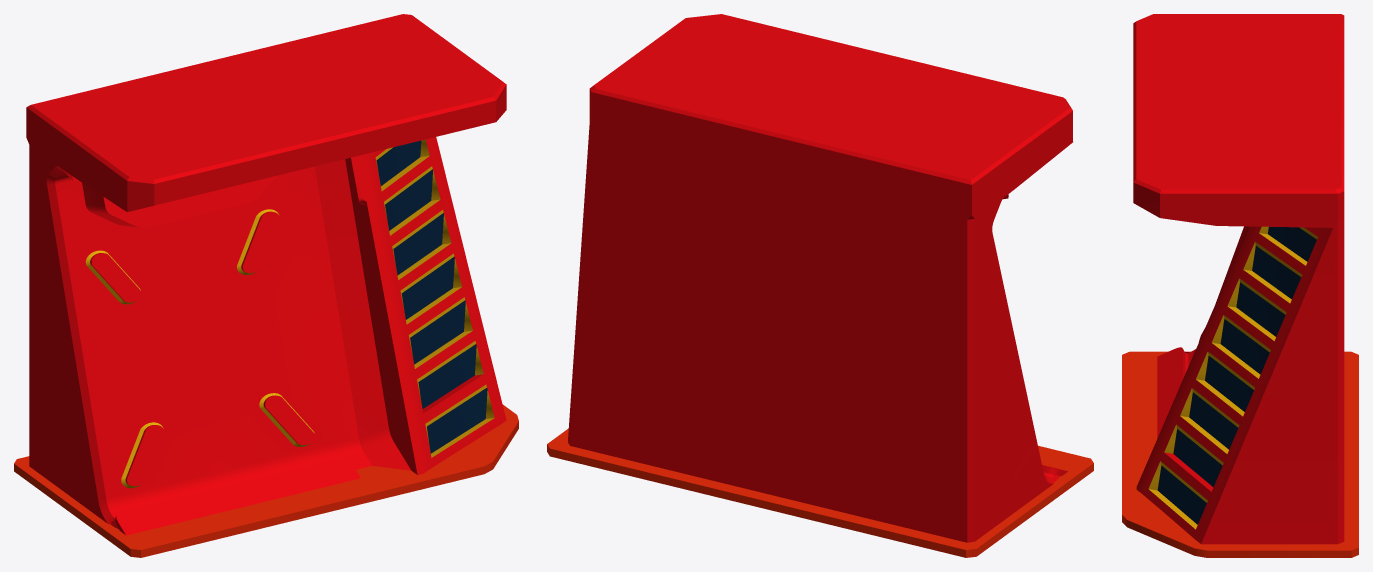
Rendered from desk_physics.fbx.
3 renders of one model, left to right at view 1: azimuth 30°, elevation 25°; view 2: azimuth 150°, elevation 25°; view 3: azimuth 270°, elevation 25°, orthographic. The views are drawn at different scales.
Parts seen in each view (by area): view 1: desk_physics; view 2: desk_physics; view 3: desk_physics.
Part boxes in pixels (left/top/right/bottom): desk_physics: left=14, top=14, right=518, bottom=557; desk_physics: left=547, top=14, right=1093, bottom=557; desk_physics: left=1122, top=14, right=1358, bottom=557.
Bounding box in the file's own units: 134 × 110 × 67.39.
